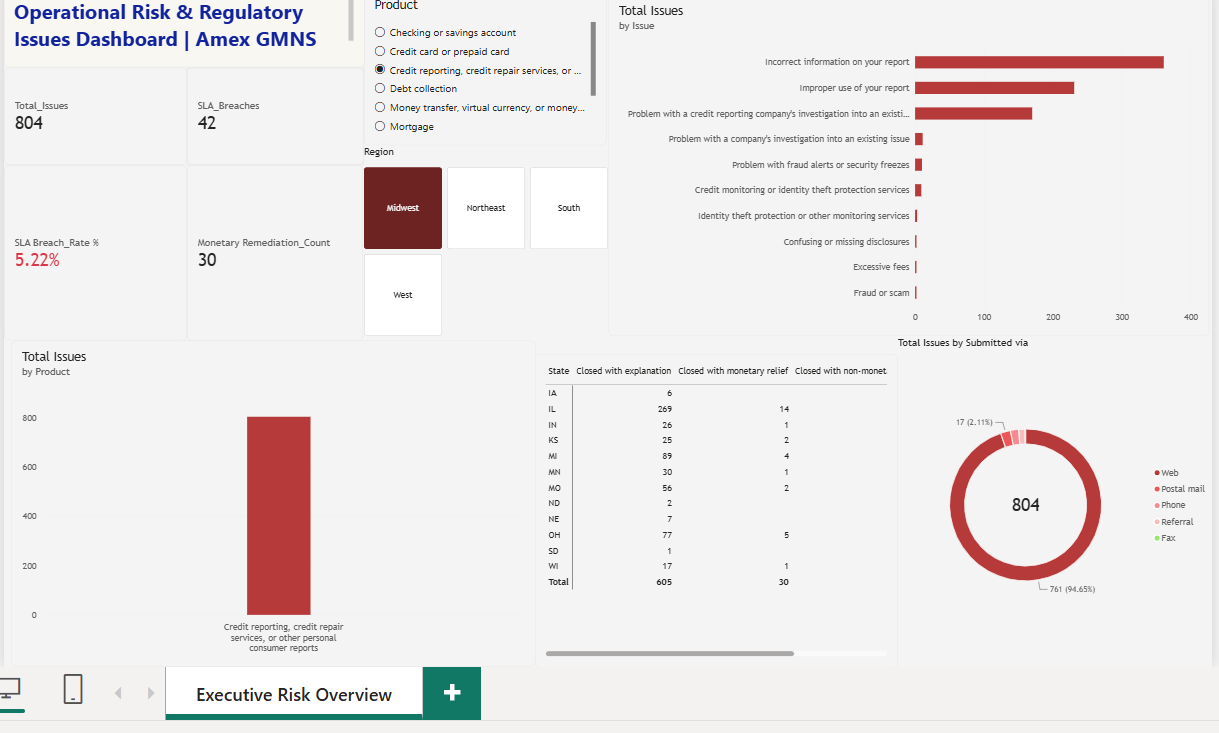

This screenshot's page, from the dashboard's own definition file:
{"tool":"powerbi","page":{"name":"Executive Risk Overview","canvas":[1920,1080],"ordinal":0},"visuals":[{"type":"cardVisual","fields":{"Data":["_Measures.Total_Issues"]},"box":[0,126.3,291.5,155.4],"z":0},{"type":"cardVisual","fields":{"Data":["_Measures.SLA_Breaches"]},"box":[291.5,126.3,281.7,155.4],"z":1000},{"type":"cardVisual","fields":{"Data":["_Measures.Monetary Remediation_Count"]},"box":[292,280.6,280.6,280.6],"z":2000},{"type":"cardVisual","fields":{"Data":["_Measures.SLA Breach_Rate %"]},"box":[0,281.7,291.5,279.3],"z":3000},{"type":"clusteredBarChart","fields":{"Category":["Real_CFPB_Consumer_Complaints.Issue"],"Y":["Real_CFPB_Consumer_Complaints.Total Issues"]},"box":[961,8.5,955.3,544.3],"z":4000},{"type":"donutChart","fields":{"Category":["Real_CFPB_Consumer_Complaints.Submitted via"],"Y":["Real_CFPB_Consumer_Complaints.Total Issues"]},"box":[1420.9,553.8,497.9,502.8],"z":5000},{"type":"clusteredColumnChart","fields":{"Category":["Real_CFPB_Consumer_Complaints.Product"],"Y":["Real_CFPB_Consumer_Complaints.Total Issues"]},"box":[11.3,561.3,833.4,518.7],"z":6000},{"type":"pivotTable","fields":{"Columns":["Real_CFPB_Consumer_Complaints.Company response to consumer"],"Rows":["Real_CFPB_Consumer_Complaints.State"],"Values":["Real_CFPB_Consumer_Complaints.Total Issues"]},"box":[844.6,582.2,577.4,498.7],"z":7000},{"type":"listSlicer","fields":{"Values":["Real_CFPB_Consumer_Complaints.Product"]},"box":[573.2,0,386.2,250.2],"z":8000},{"type":"advancedSlicerVisual","fields":{"Values":["Dim_Geography.Region"]},"box":[572.6,250.5,388.9,303],"z":9000},{"type":"textbox","box":[0,0,573.2,126.3],"z":10000}]}

Visuals, with their boxes on the page's 1920x1080 design canvas (x1, y1, x2, y2). These are canvas units, not pixel positions in the 1219x733 screenshot, which may show the page scaled, cropped or inside an application window:
cardVisual - _Measures.Total_Issues: box(0, 126, 292, 282)
cardVisual - _Measures.SLA_Breaches: box(292, 126, 573, 282)
cardVisual - _Measures.Monetary Remediation_Count: box(292, 281, 573, 561)
cardVisual - _Measures.SLA Breach_Rate %: box(0, 282, 292, 561)
clusteredBarChart - Real_CFPB_Consumer_Complaints.Issue x Real_CFPB_Consumer_Complaints.Total Issues: box(961, 8, 1916, 553)
donutChart - Real_CFPB_Consumer_Complaints.Submitted via x Real_CFPB_Consumer_Complaints.Total Issues: box(1421, 554, 1919, 1057)
clusteredColumnChart - Real_CFPB_Consumer_Complaints.Product x Real_CFPB_Consumer_Complaints.Total Issues: box(11, 561, 845, 1080)
pivotTable - Real_CFPB_Consumer_Complaints.Company response to consumer x Real_CFPB_Consumer_Complaints.State: box(845, 582, 1422, 1081)
listSlicer - Real_CFPB_Consumer_Complaints.Product: box(573, 0, 959, 250)
advancedSlicerVisual - Dim_Geography.Region: box(573, 250, 962, 554)
textbox: box(0, 0, 573, 126)
